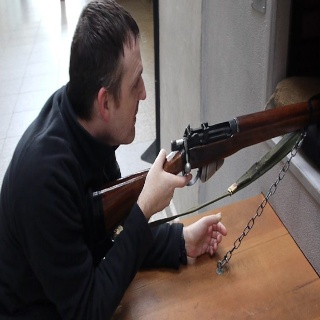rifle: (89, 98, 320, 241)
